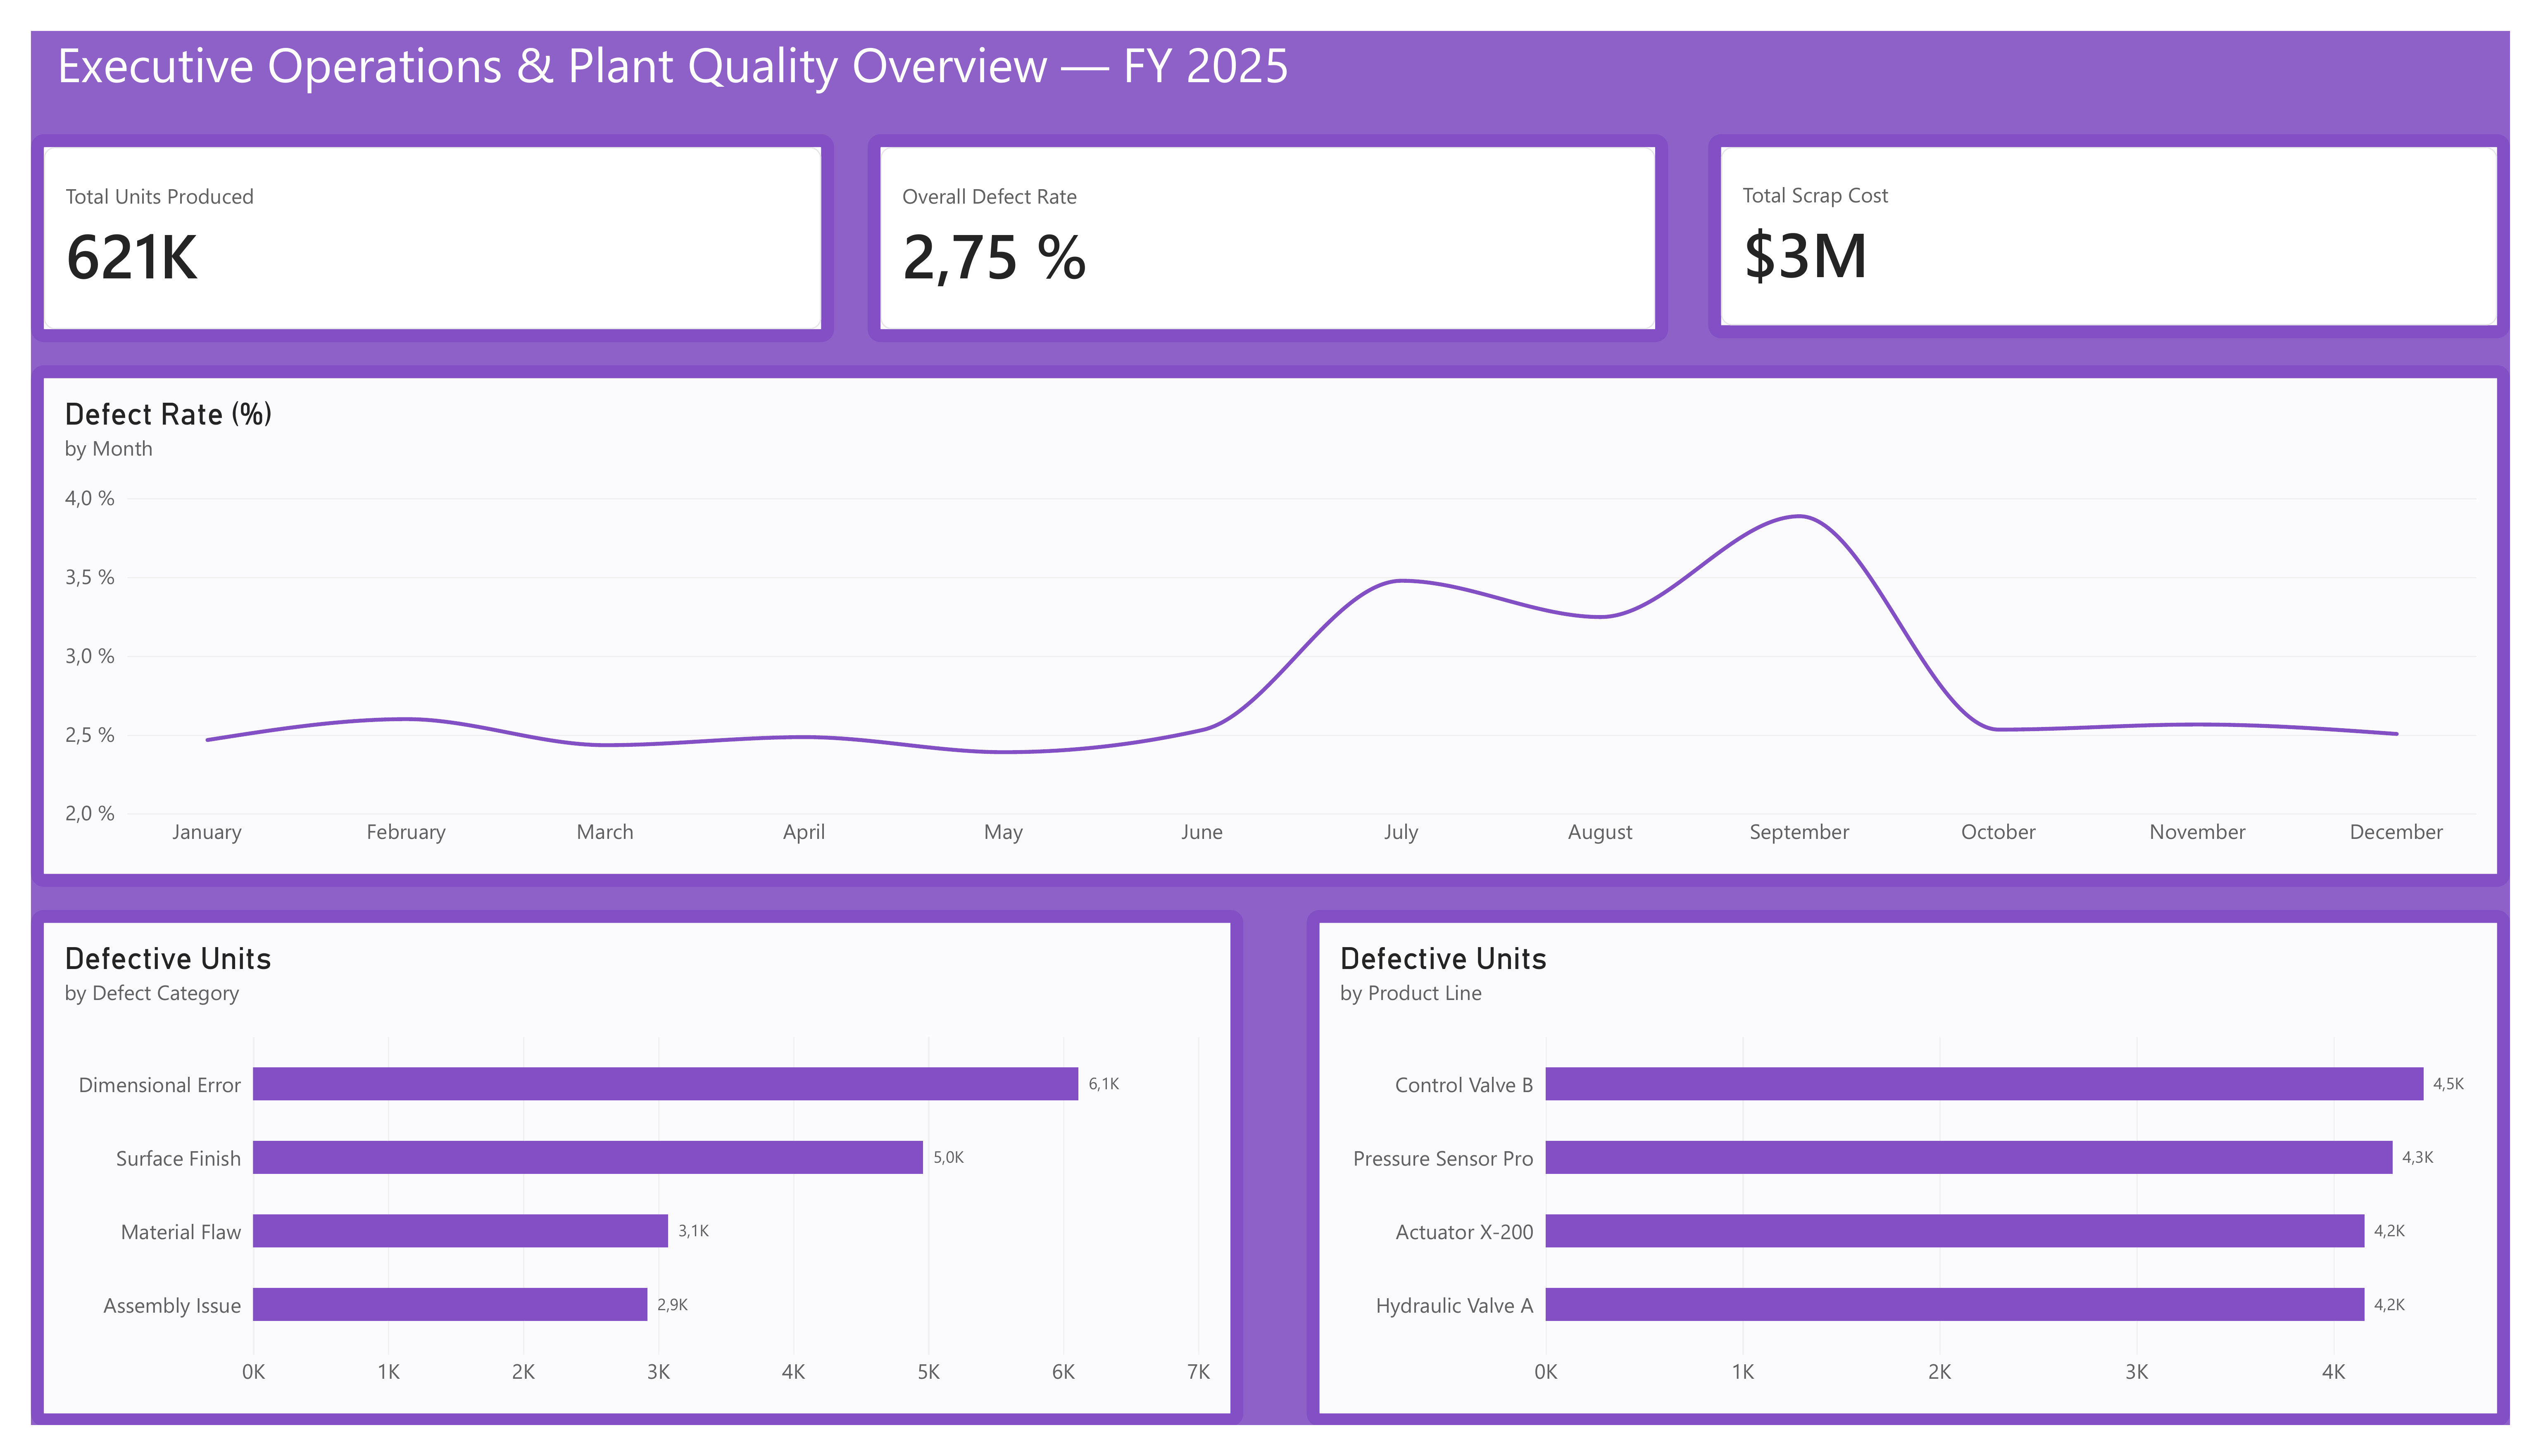

What the dashboard file says about the page in this screenshot:
{"tool":"powerbi","page":{"name":"Executive Quality Overview","canvas":[1920,1080],"ordinal":0},"visuals":[{"type":"cardVisual","fields":{"Data":["Sum(manufacturing_quality_data.Units_Produced)"]},"box":[0,80.3,621.6,160.5],"z":0,"group":"g1"},{"type":"cardVisual","fields":{"Data":["manufacturing_quality_data.Scrap Cost ($)"]},"box":[1298.8,80.3,621.6,158.5],"z":1000,"group":"g1"},{"type":"cardVisual","fields":{"Data":["manufacturing_quality_data.Defect Rate (%)"]},"box":[648.4,80.3,619.6,160.5],"z":2000,"group":"g1"},{"type":"lineChart","fields":{"Category":["manufacturing_quality_data.Production_Date.Variation.Date Hierarchy.Month"],"Y":["manufacturing_quality_data.Defect Rate (%)"]},"box":[0,259.3,1920.4,403.4],"z":3000},{"type":"clusteredBarChart","title":"Defective Units","fields":{"Category":["manufacturing_quality_data.Defect_Category"],"Y":["Sum(manufacturing_quality_data.Defective_Units)"]},"box":[0,681.3,938.6,399.3],"z":4000},{"type":"clusteredBarChart","title":"Defective Units","fields":{"Category":["manufacturing_quality_data.Product_Line"],"Y":["Sum(manufacturing_quality_data.Defective_Units)"]},"box":[988,681.3,932.4,399.3],"z":4001},{"type":"textbox","box":[0,0,1920.4,76.2],"z":4003},{"type":"group","id":"g1","title":"Group 1","box":[0,80.3,1920.4,160.5],"z":4004}]}

Visuals, with their boxes on the page's 1920x1080 design canvas (x1, y1, x2, y2). These are canvas units, not pixel positions in the 2541x1456 screenshot, which may show the page scaled, cropped or inside an application window:
cardVisual - Sum(manufacturing_quality_data.Units_Produced): (0, 80, 622, 241)
cardVisual - manufacturing_quality_data.Scrap Cost ($): (1299, 80, 1920, 239)
cardVisual - manufacturing_quality_data.Defect Rate (%): (648, 80, 1268, 241)
lineChart - manufacturing_quality_data.Production_Date.Variation.Date Hierarchy.Month x manufacturing_quality_data.Defect Rate (%): (0, 259, 1920, 663)
"Defective Units" clusteredBarChart: (0, 681, 939, 1081)
"Defective Units" clusteredBarChart: (988, 681, 1920, 1081)
textbox: (0, 0, 1920, 76)
"Group 1" group: (0, 80, 1920, 241)
